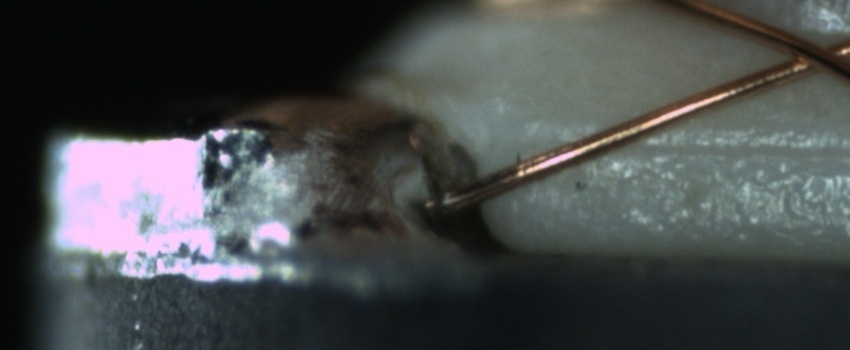CL: (766, 28, 847, 82)
DL: (568, 116, 840, 178)
